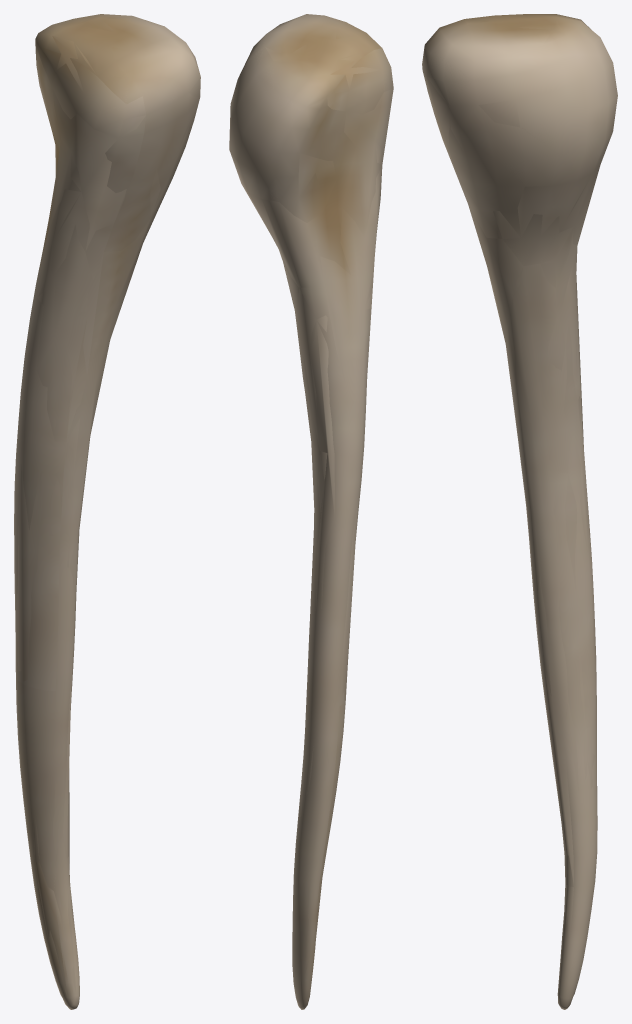
File: R metatarsi secundum.fbx
The picture shows the model from 3 angles, left to right: view 1: azimuth 30°, elevation 25°; view 2: azimuth 150°, elevation 25°; view 3: azimuth 270°, elevation 25°; orthographic projection. The views are drawn at different scales.
Parts seen in each view (by area): view 1: R metatarsi secundum, R metatarsi secundum low; view 2: R metatarsi secundum, R metatarsi secundum low; view 3: R metatarsi secundum, R metatarsi secundum low.
Boxes of the visible parts, <box> form: R metatarsi secundum: <box>14,14,200,1009</box>; R metatarsi secundum low: <box>14,14,200,996</box>; R metatarsi secundum: <box>229,14,393,1009</box>; R metatarsi secundum low: <box>229,27,393,1005</box>; R metatarsi secundum: <box>422,14,617,1009</box>; R metatarsi secundum low: <box>423,16,617,988</box>.
Size of the model in its own units: 2.98 by 19.98 by 3.57.
1 material, 1 textured.
